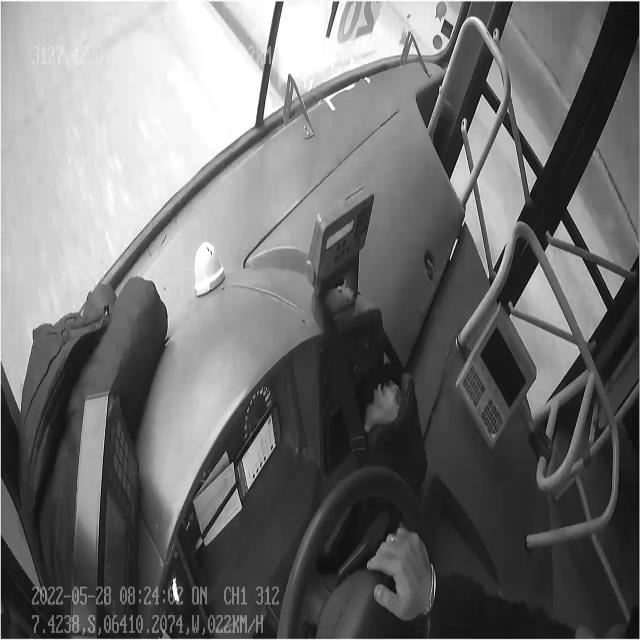phone: (232, 394, 278, 493)
wheel: (281, 465, 434, 639)
